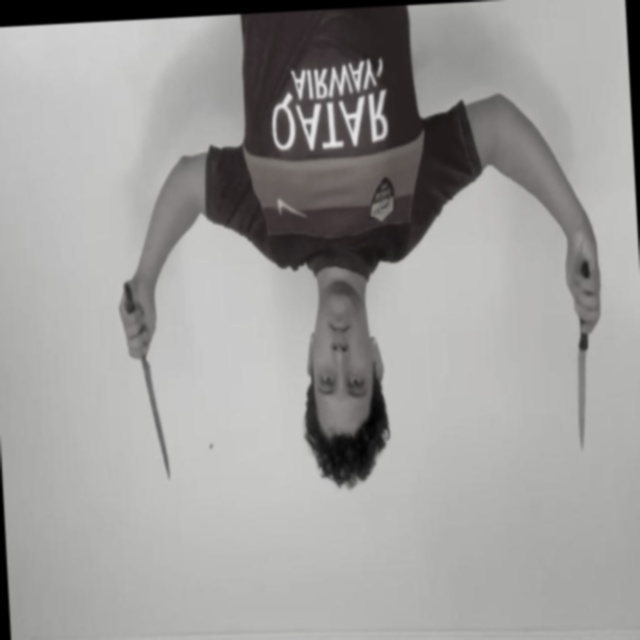Sharp-Object: (144, 357, 171, 485), (573, 348, 592, 456)
